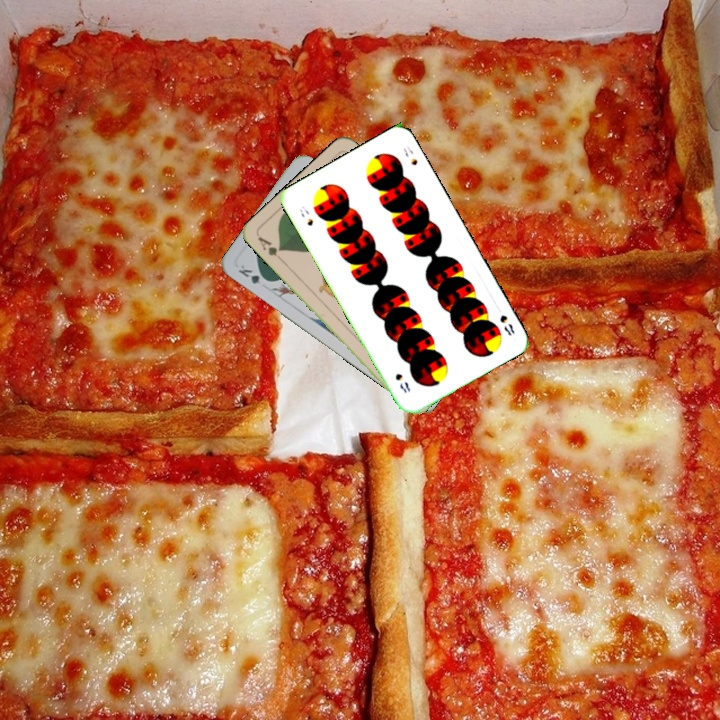GA: (254, 232, 286, 265)
GK: (234, 260, 272, 287)
S8: (495, 311, 517, 338), (295, 202, 316, 229)
